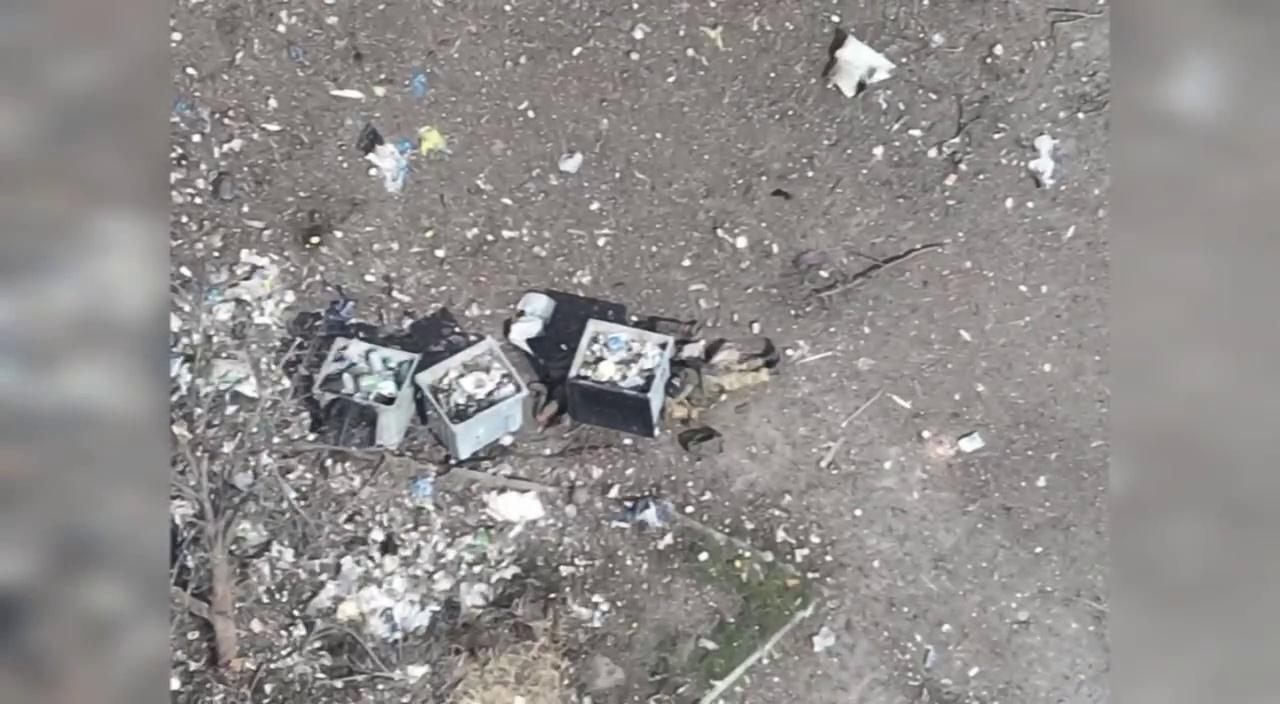person: (664, 344, 786, 428)
